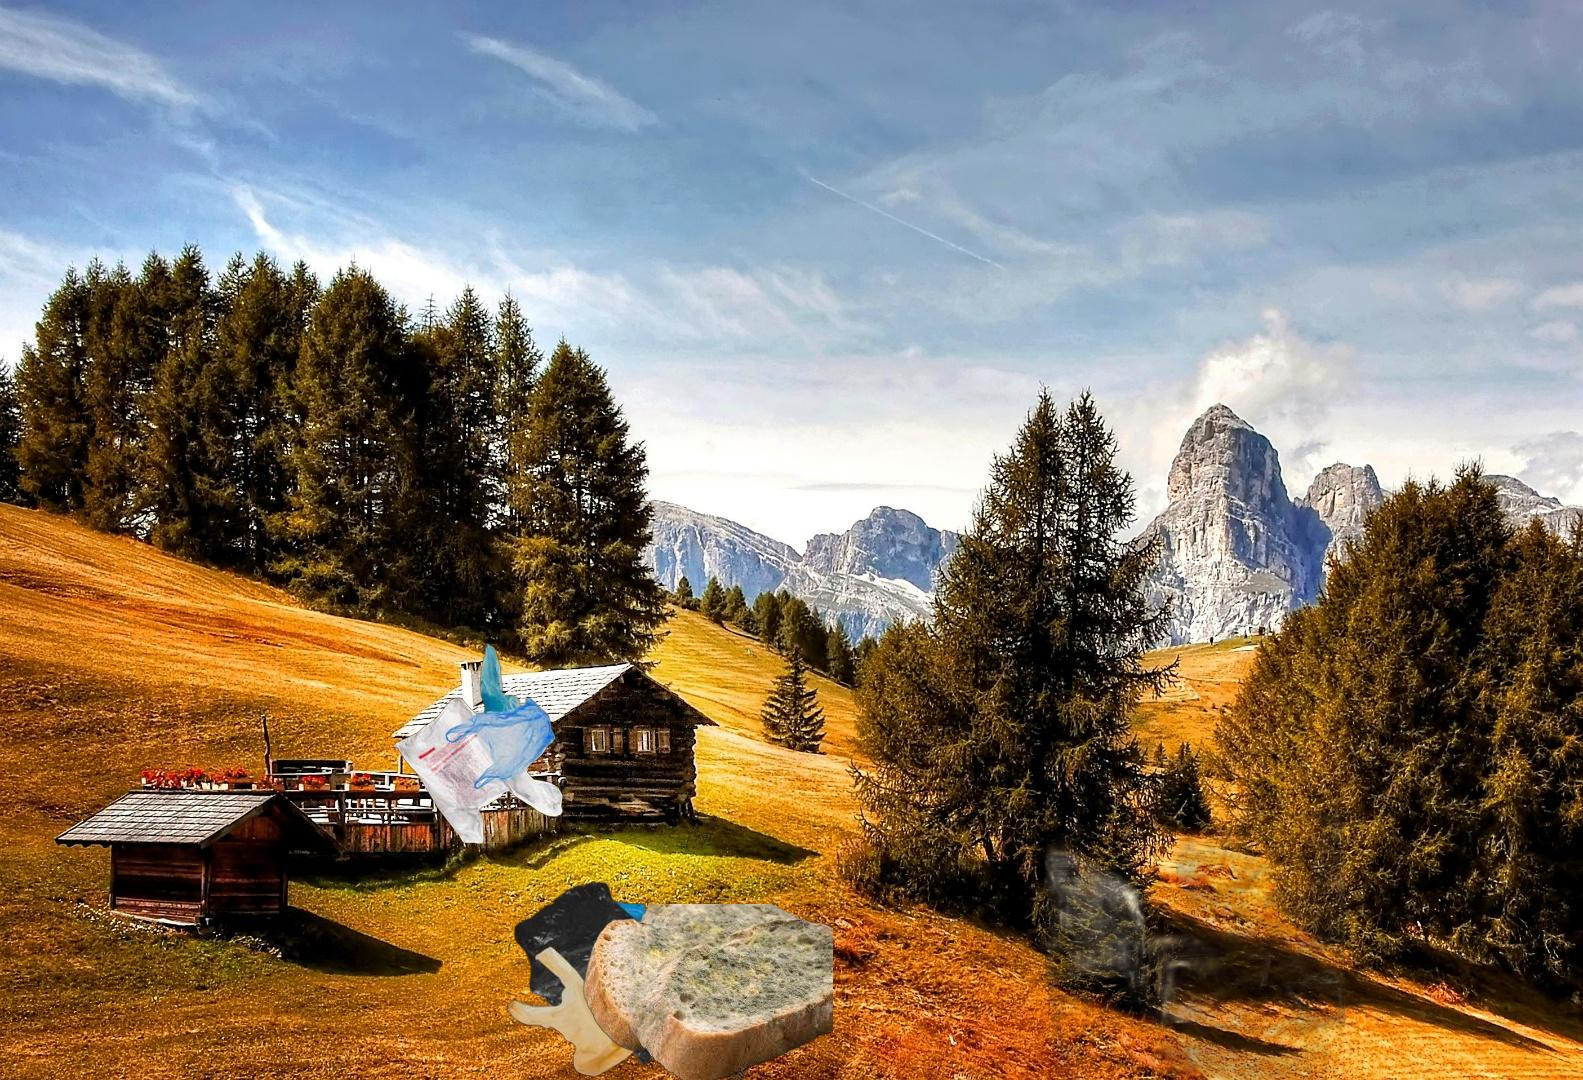biological: (581, 904, 833, 1080)
paper-bag: (1045, 813, 1345, 1080)
plastic-bag: (391, 639, 566, 847), (503, 881, 683, 1079)
